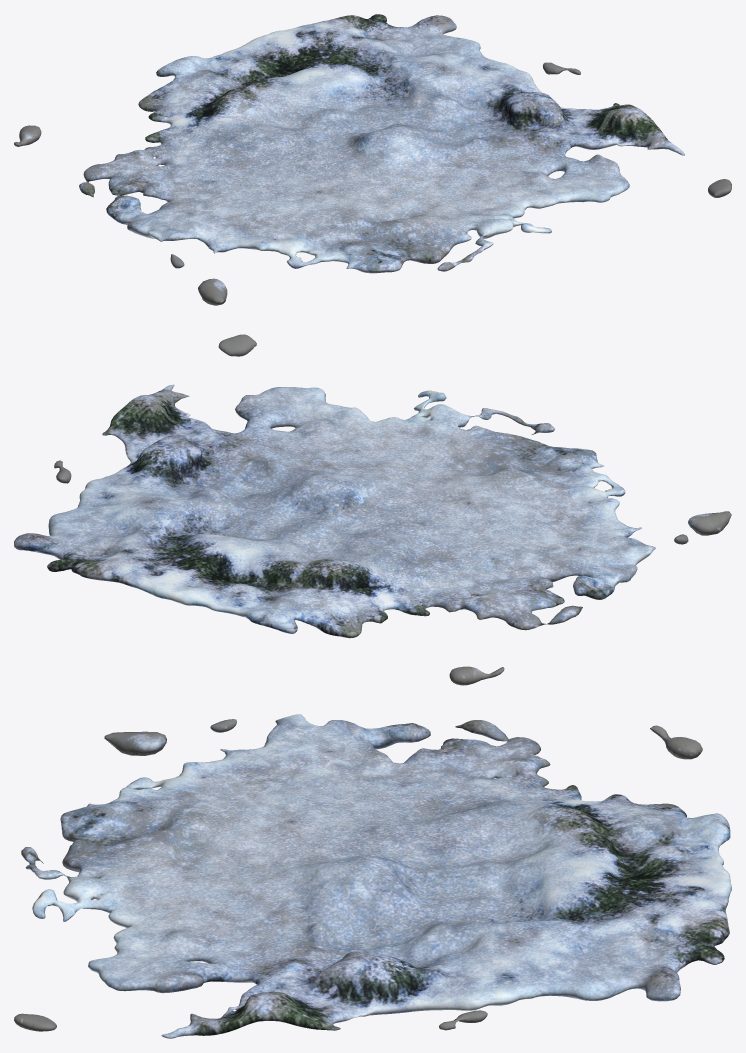
Rendered from snow.glb.
3 views of the same model, one above another, from view 1: azimuth 30°, elevation 25°; view 2: azimuth 150°, elevation 25°; view 3: azimuth 270°, elevation 25° (orthographic). The views are drawn at different scales.
Parts seen in each view (by area): view 1: model_0; view 2: model_0; view 3: model_0.
Boxes of the visible parts, x1,y1,x2,y2 form: model_0: (14, 14, 731, 305); model_0: (14, 334, 731, 685); model_0: (14, 714, 731, 1038).
Bounding box in the file's own units: 1.41 × 0.1233 × 1.32.
Materials: 1 (1 with a texture image).
